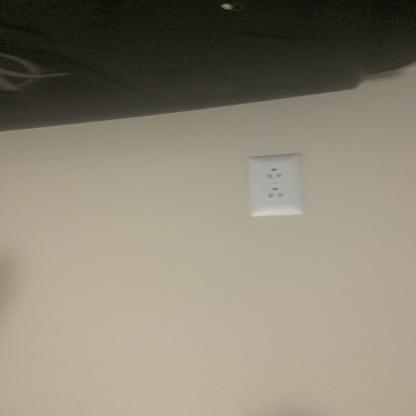OUTLET: (250, 155, 301, 216)
